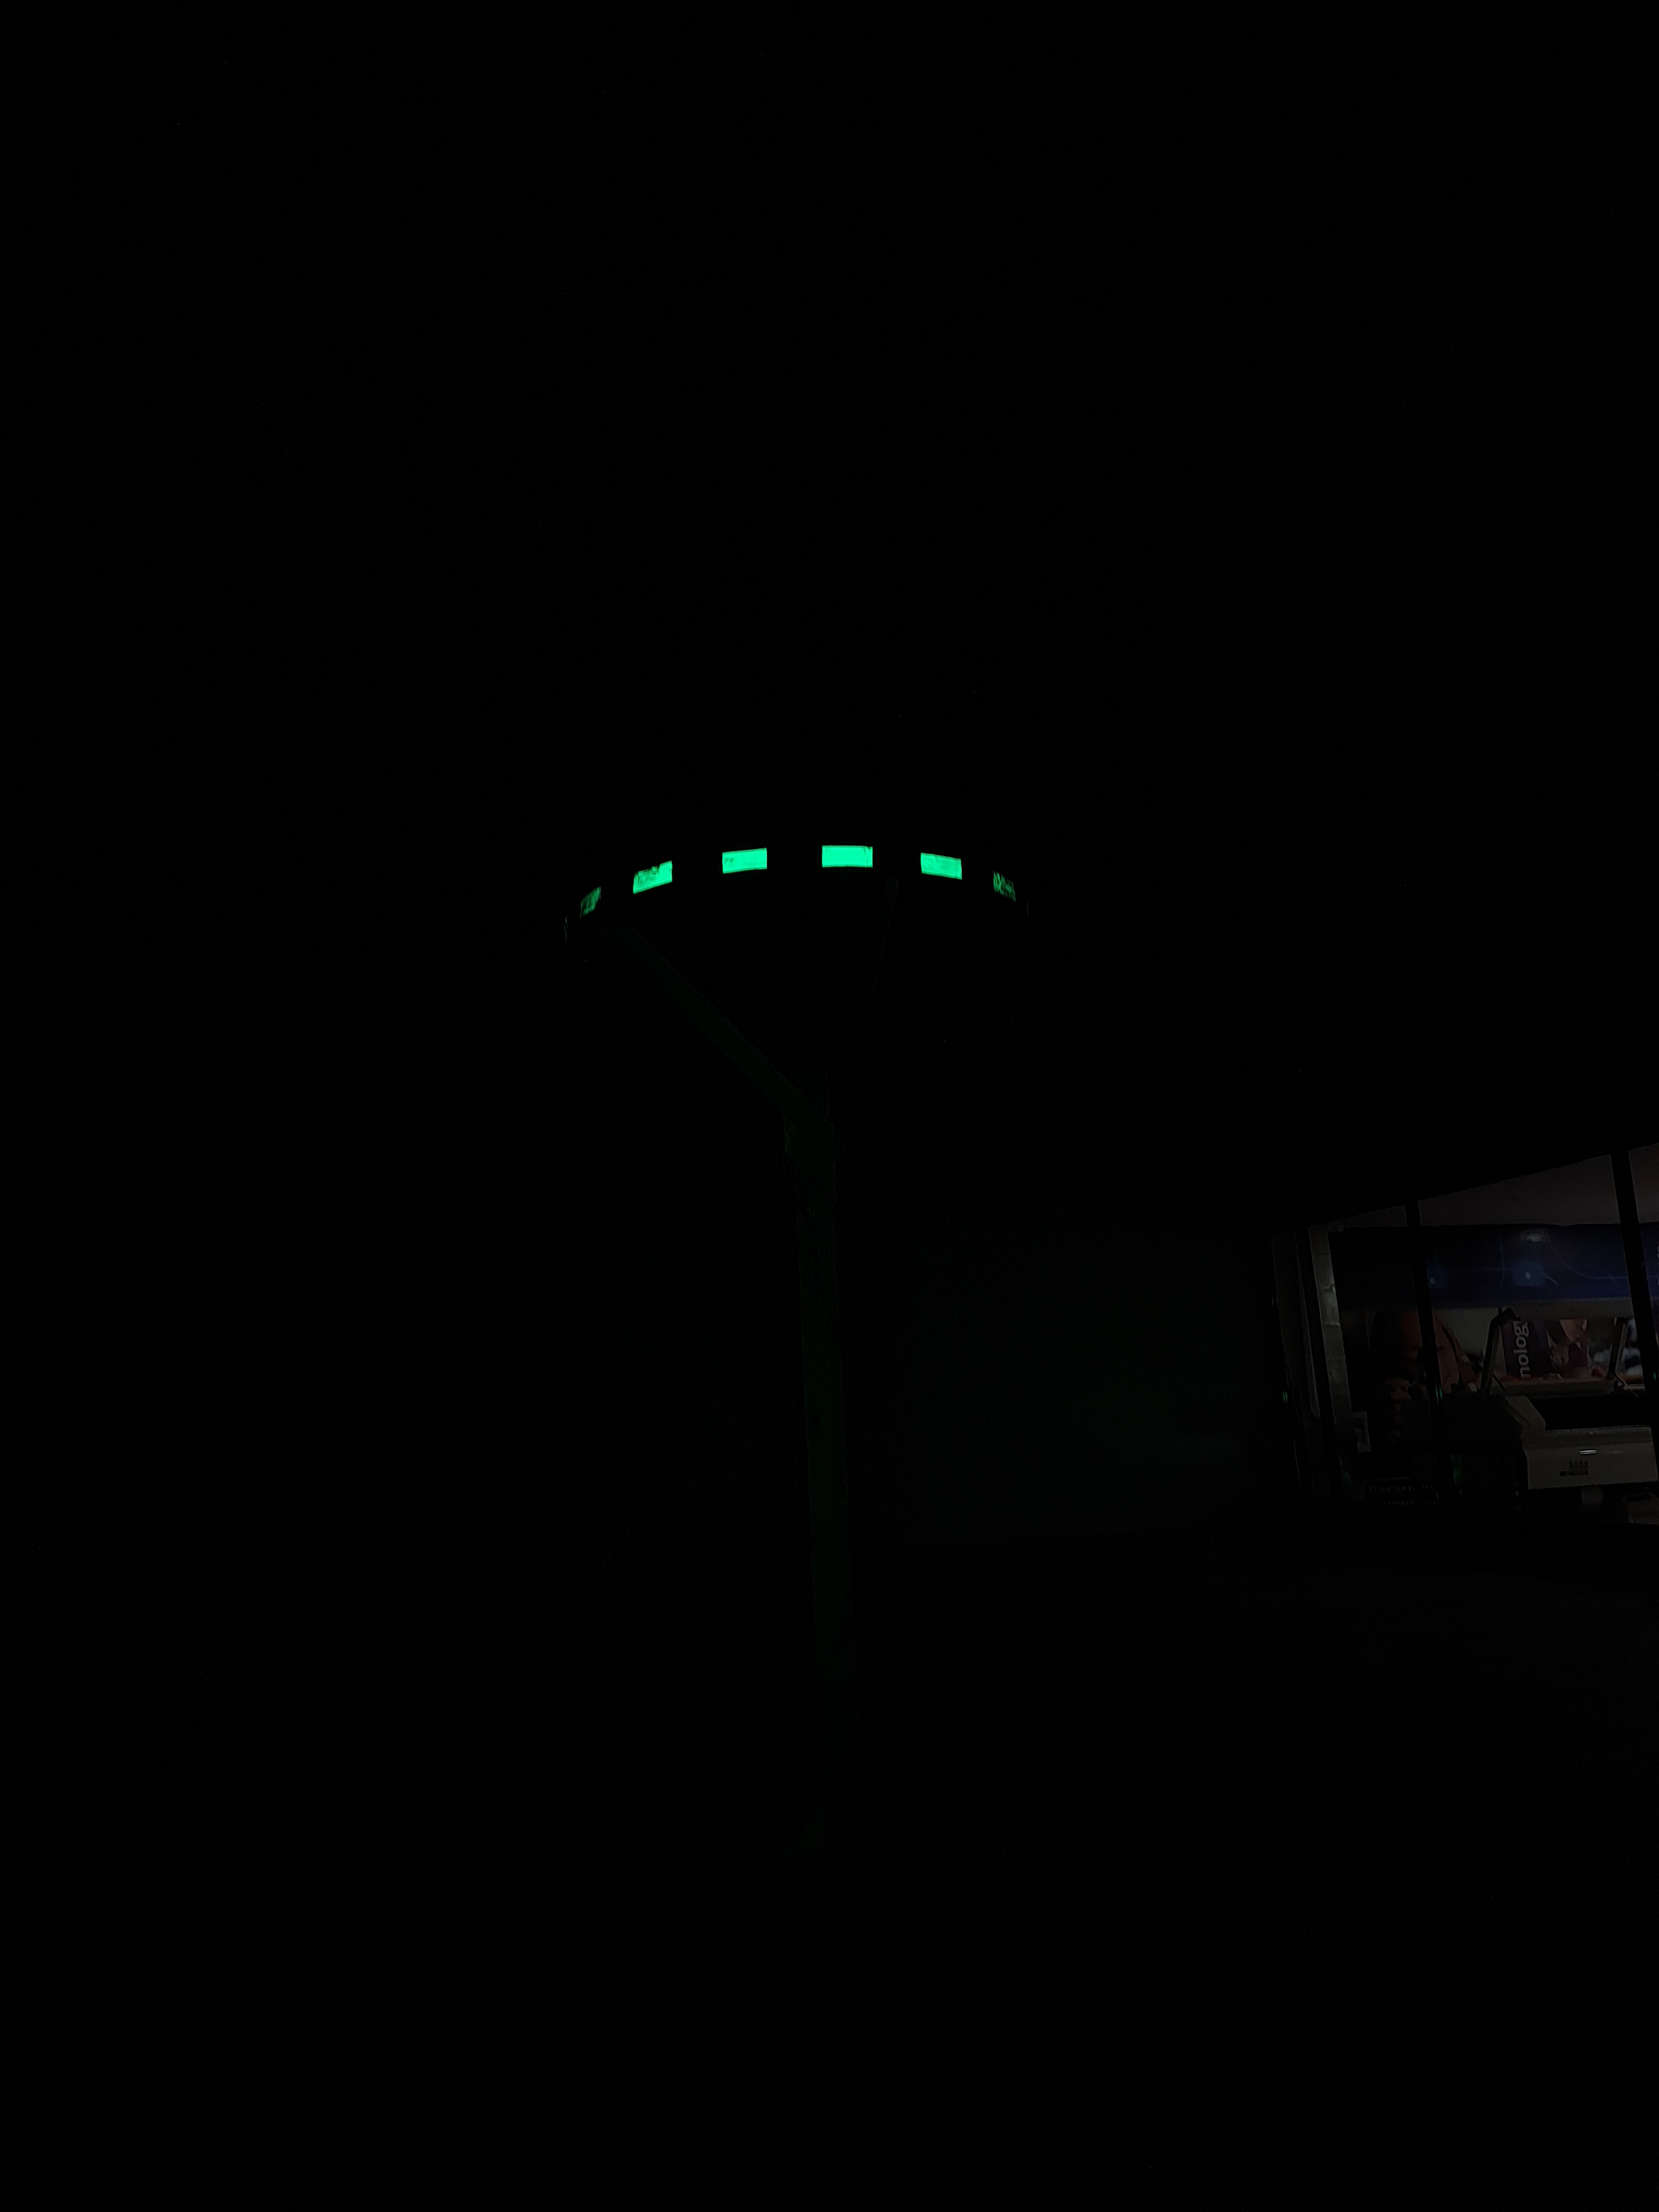hoop: (525, 827, 1042, 930)
